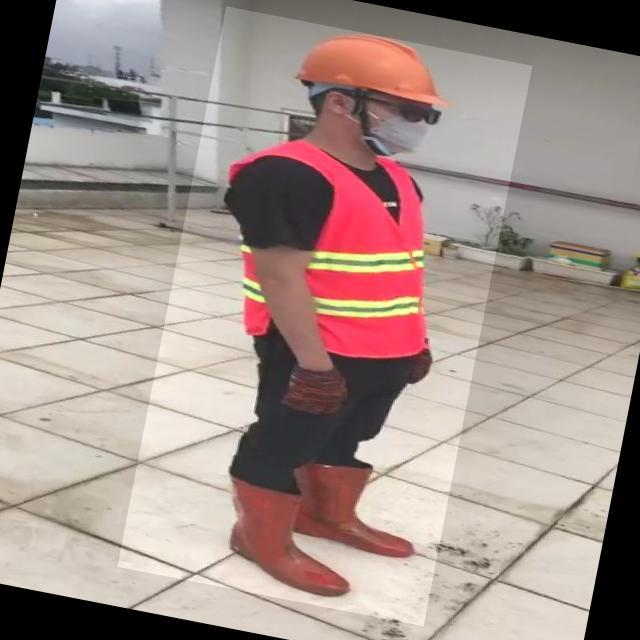Gloves: (278, 362, 348, 420)
Helmet: (291, 22, 452, 107)
Human: (118, 7, 533, 627)
Safety Boot: (213, 474, 367, 600), (287, 457, 427, 563)
Safety Vest: (197, 126, 460, 369)
